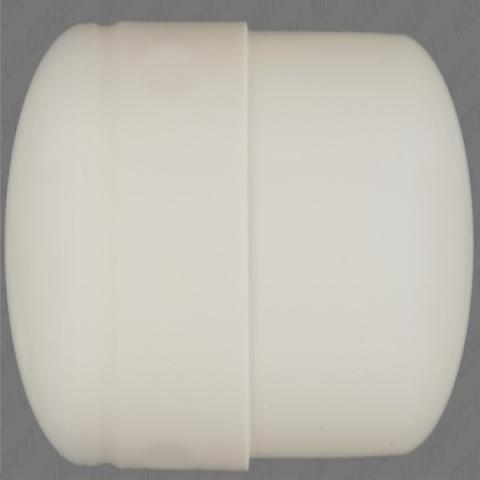Pill: (6, 5, 475, 480)
